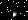person: (14, 9, 20, 20), (9, 9, 13, 20)
